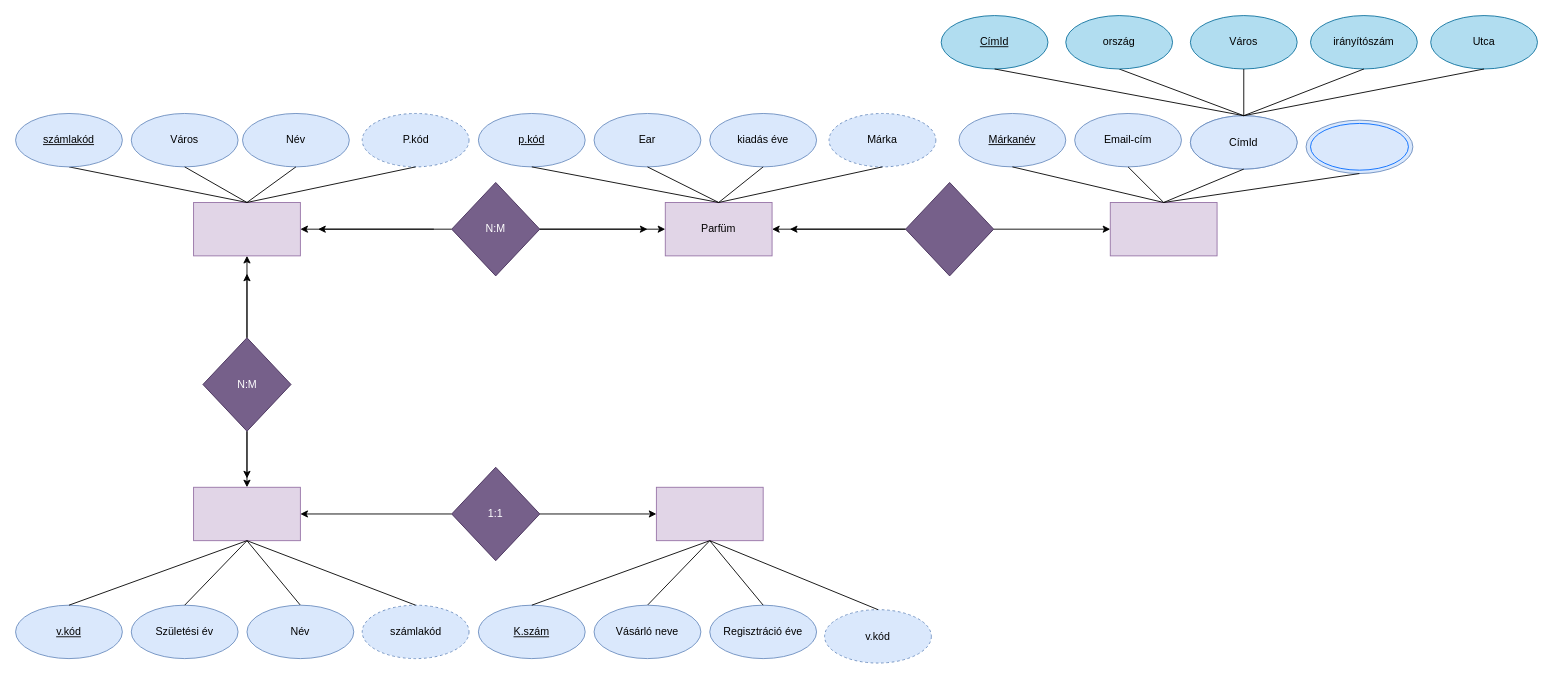
This 1553x679 diagram has some shape labels left out. Here are the shapes that lost their labels. From the top down, the box of each, then its label:
(1310, 123, 1408, 170): Telefonszám
(193, 202, 300, 256): Üzlet
(905, 182, 994, 276): 1:N
(1109, 202, 1217, 256): Gyártó
(193, 486, 300, 541): Vásárló
(655, 486, 763, 541): Vásárlói kártya
